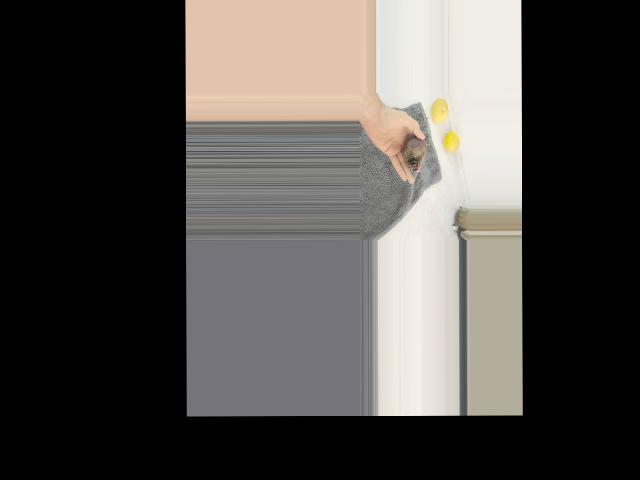beet: (401, 117, 429, 170)
